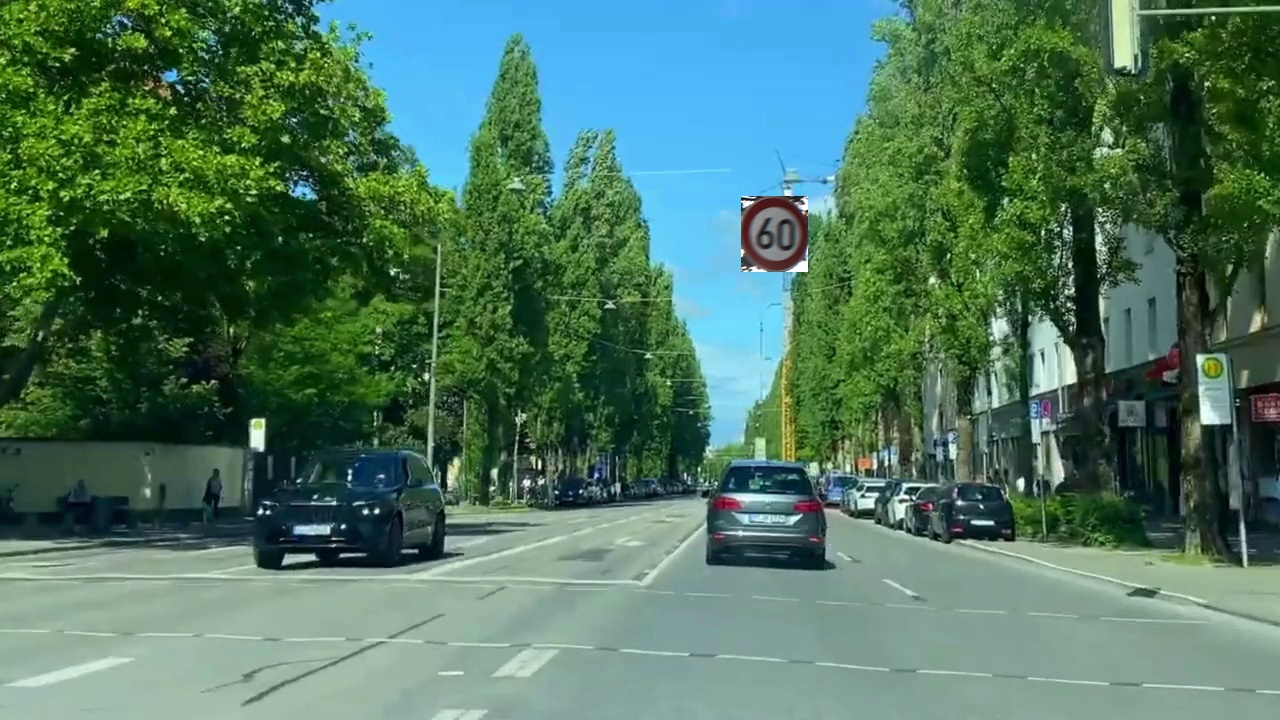Speed 60: (741, 196, 808, 272)
